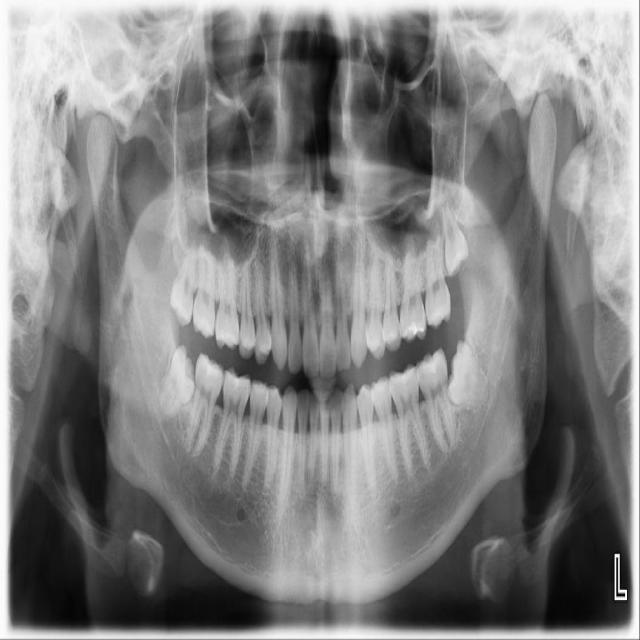3M ESPE Implant: (167, 243, 197, 326)
73: (608, 571, 612, 579)
BioHorizons Implant: (424, 234, 451, 330)
BioLife Implant: (439, 193, 471, 276)
Biomet 3i Implant: (446, 340, 495, 408)
Blue Sky Bio Implant: (413, 347, 458, 454)
Caries: (192, 243, 216, 340)
Implant: (184, 352, 227, 457)
Keystone Dental Implant: (155, 342, 204, 422)
